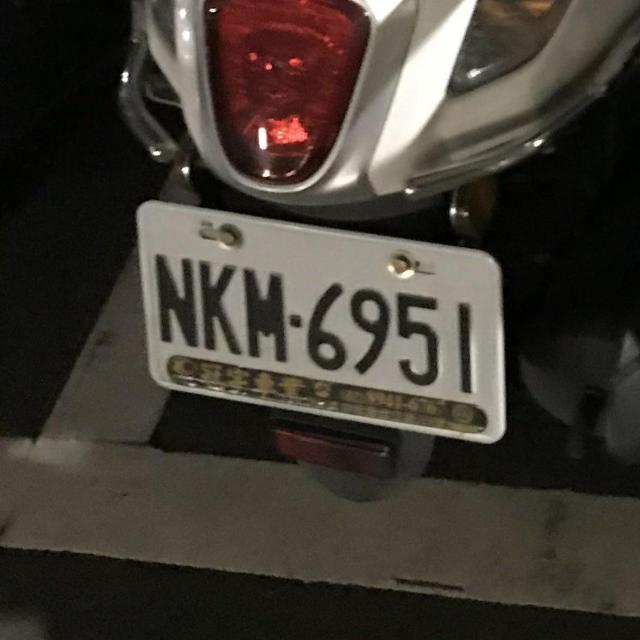W: (119, 188, 526, 446)
